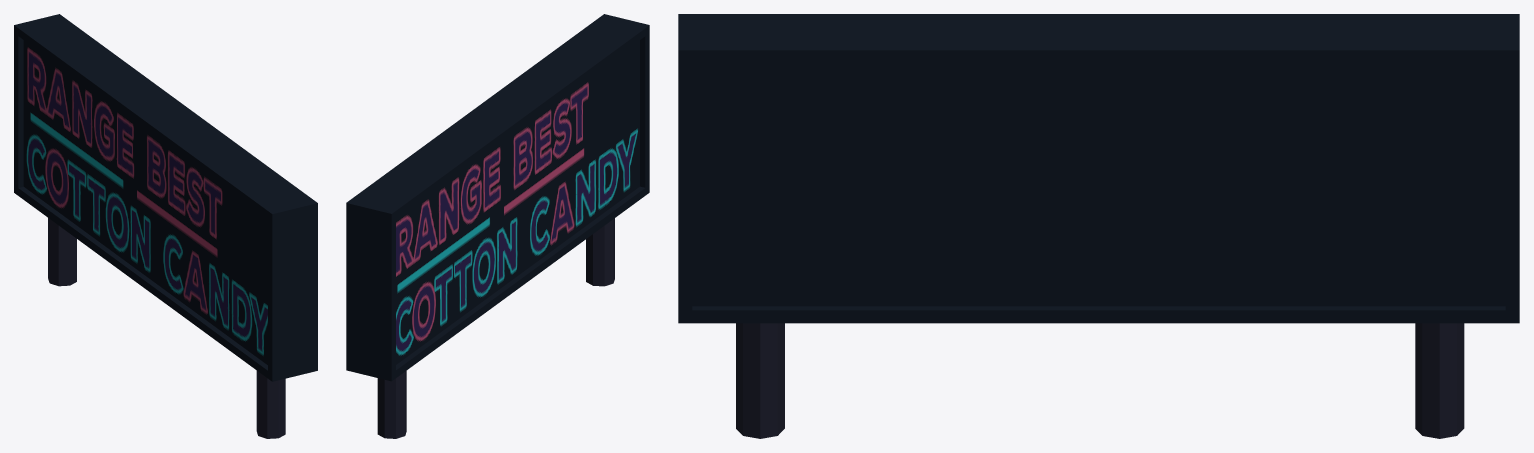
Rendered from Sign_CottonCandy.fbx.
3 renders of one model, left to right at view 1: azimuth 30°, elevation 25°; view 2: azimuth 150°, elevation 25°; view 3: azimuth 270°, elevation 25°, orthographic. The views are drawn at different scales.
Parts seen in each view (by area): view 1: Cube.643; view 2: Cube.643; view 3: Cube.643.
Boxes of the visible parts, x1,y1,x2,y2 form: Cube.643: (14,14,317,438); Cube.643: (346,14,649,438); Cube.643: (678,14,1519,438).
Size of the model in its own units: 30.18 by 154 by 296.
